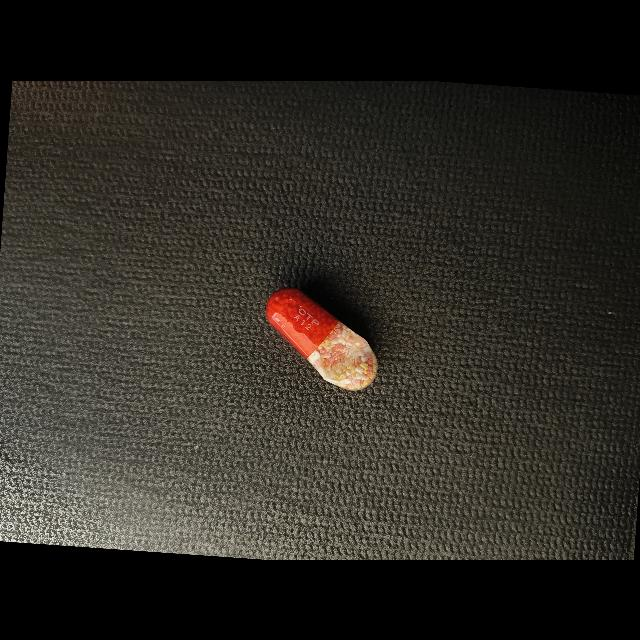Defective Capsule: (266, 287, 378, 390)
